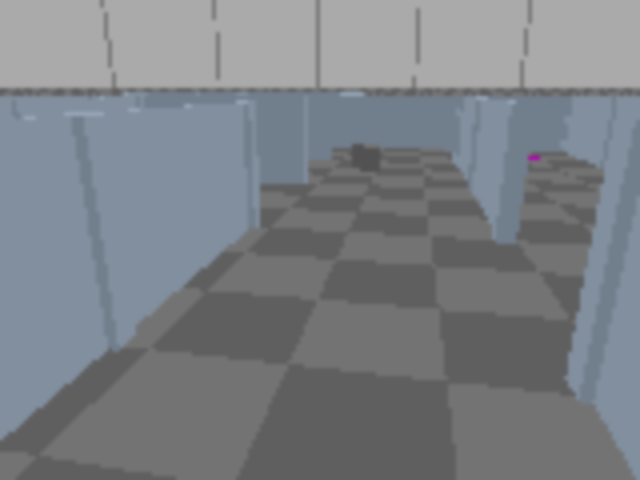obstacle: (351, 143, 380, 170)
